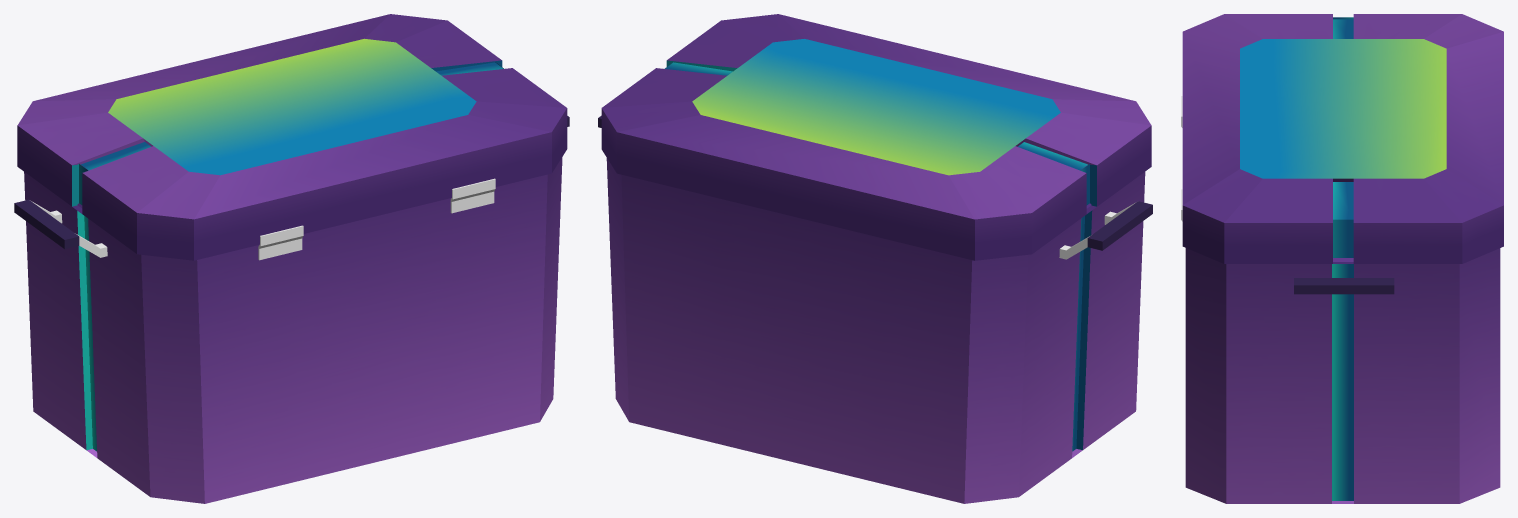
Rendered from SM_Cooler_Close.fbx.
The picture shows the model from 3 angles, left to right: view 1: azimuth 30°, elevation 25°; view 2: azimuth 150°, elevation 25°; view 3: azimuth 270°, elevation 25°; orthographic projection.
Parts seen in each view (by area): view 1: CoolerBox, CoolerLid, Handle.002, Hinge.002, Hinge.003; view 2: CoolerBox, CoolerLid, Handle.002; view 3: CoolerLid, CoolerBox, Handle.001.
Boxes of the visible parts, x1,y1,x2,y2 form: CoolerBox: [24, 157, 562, 503]; CoolerLid: [17, 14, 567, 260]; Handle.002: [14, 199, 107, 257]; Hinge.002: [258, 225, 303, 260]; Hinge.003: [450, 178, 495, 213]; CoolerBox: [606, 158, 1145, 503]; CoolerLid: [601, 14, 1151, 260]; Handle.002: [1059, 201, 1152, 259]; CoolerLid: [1182, 14, 1503, 263]; CoolerBox: [1185, 248, 1500, 503]; Handle.001: [1294, 278, 1394, 294].
Size of the model in its own units: 57.28 by 103 by 58.11.
